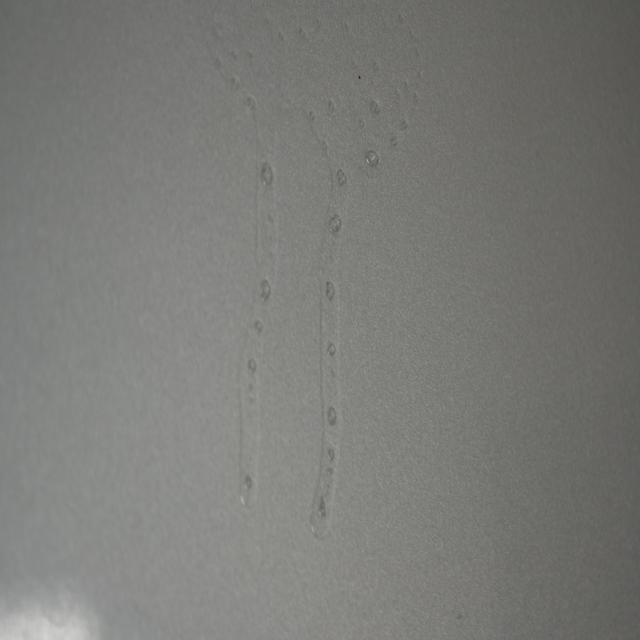runs: (195, 0, 438, 540)
